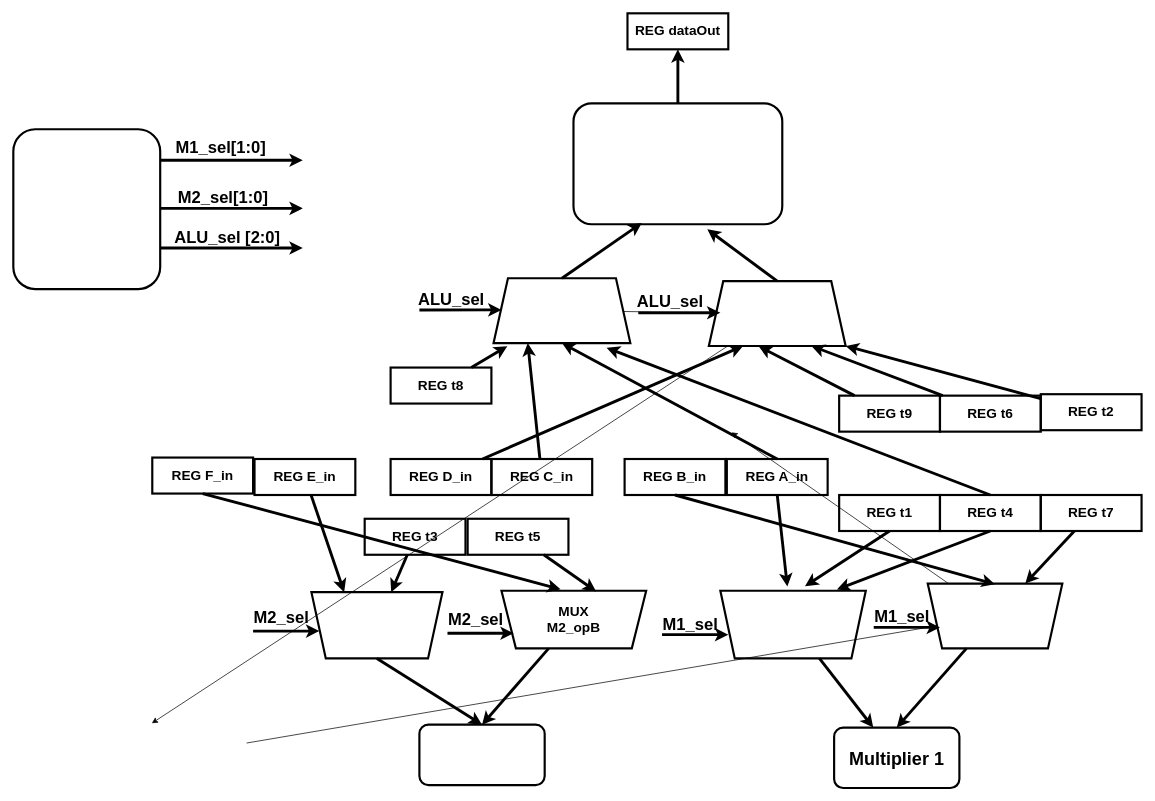
This 1155x801 diagram has some shape labels left out. The centre of each missing label's shape, as x and y in pixels:
"ALU" belongs at (x=677, y=163).
"Control" belongs at (x=86, y=209).
"Multiplier 2" belongs at (x=481, y=754).
"MUX ALU_opA" belongs at (x=561, y=310).
"MUX ALU_opB" belongs at (x=776, y=313).
"MUX M1_opA" belongs at (x=793, y=624).
"MUX M1_opB" belongs at (x=994, y=615).
"MUX M2_opA" belongs at (x=376, y=625).
